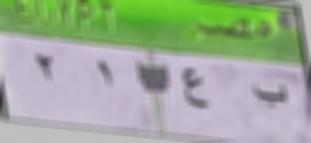1: (90, 58, 120, 92)
2: (30, 50, 62, 86)
ain: (175, 68, 215, 114)
baa: (249, 78, 291, 113)
